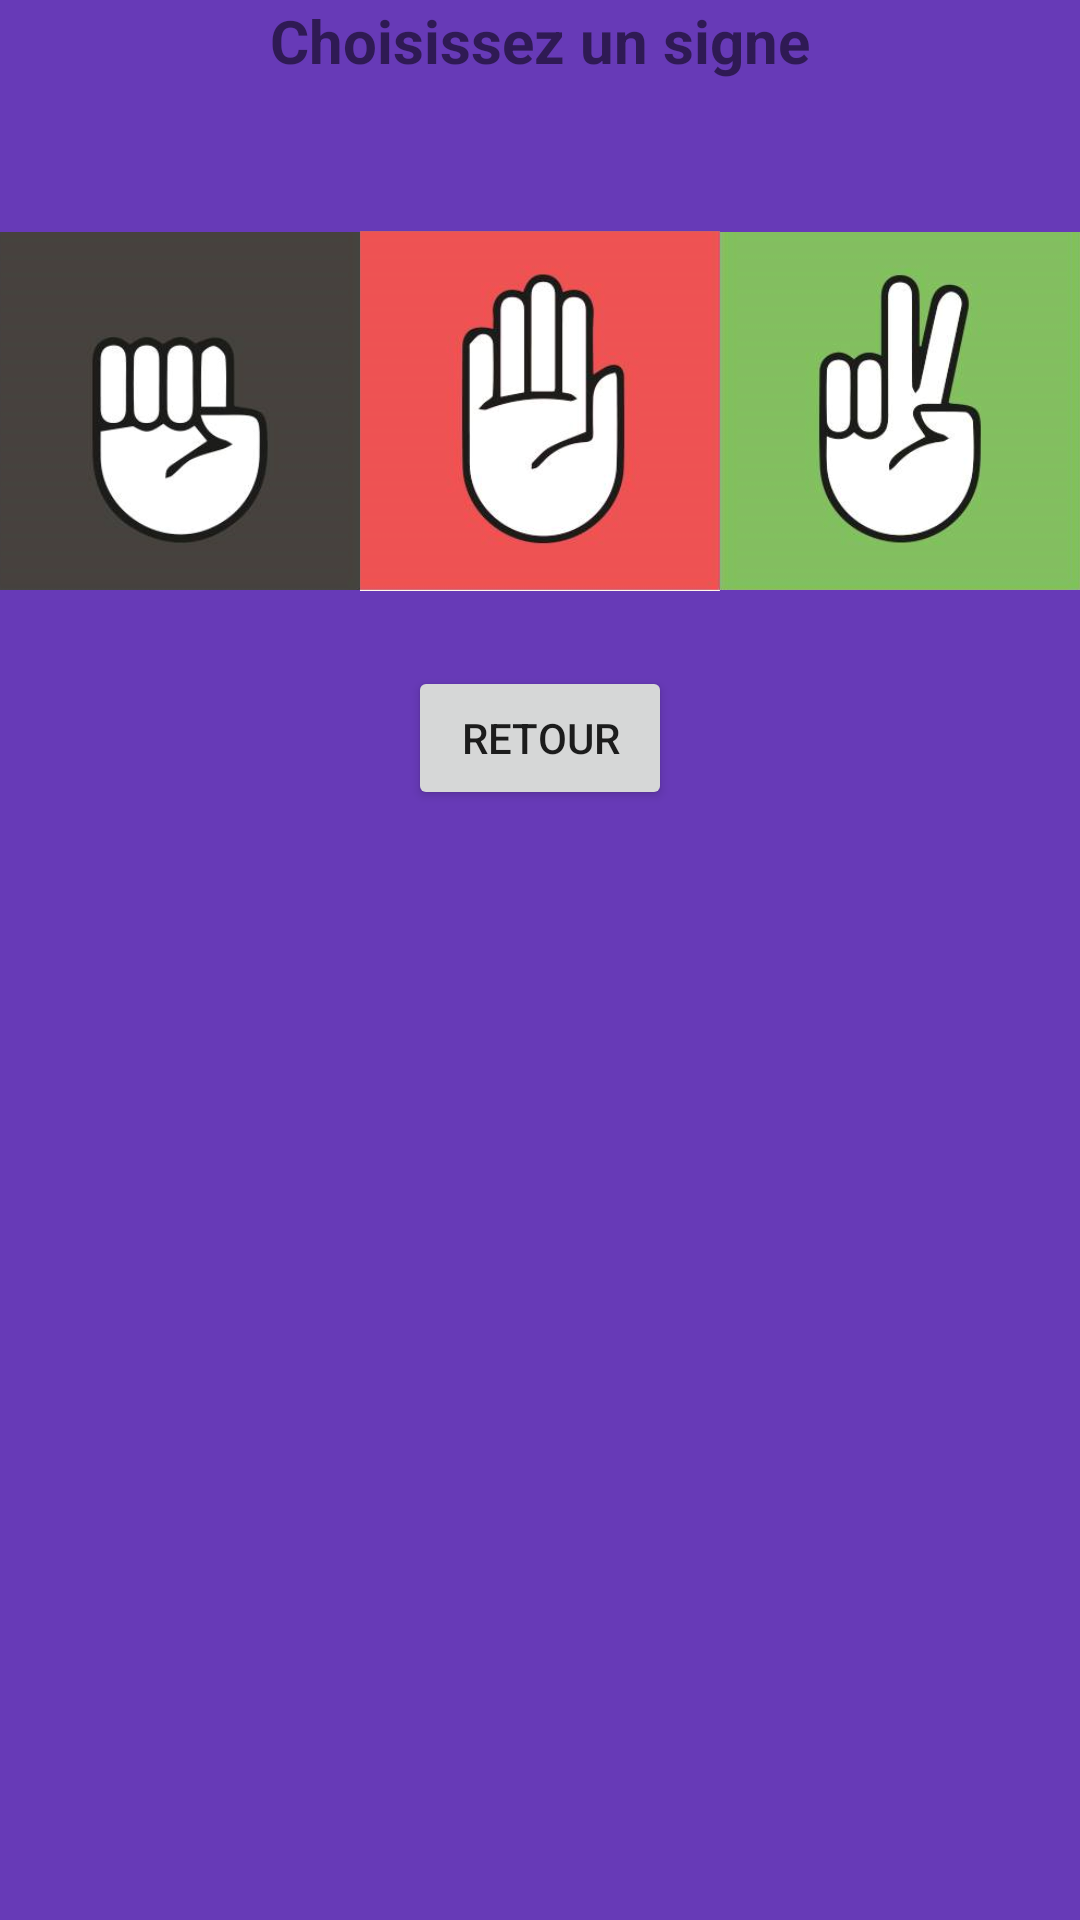

Icon click points for this 1080 x 1920 phone screenshot, format [x,y]:
cizeau: [900,411]
feuille: [540,411]
pierre: [180,411]
